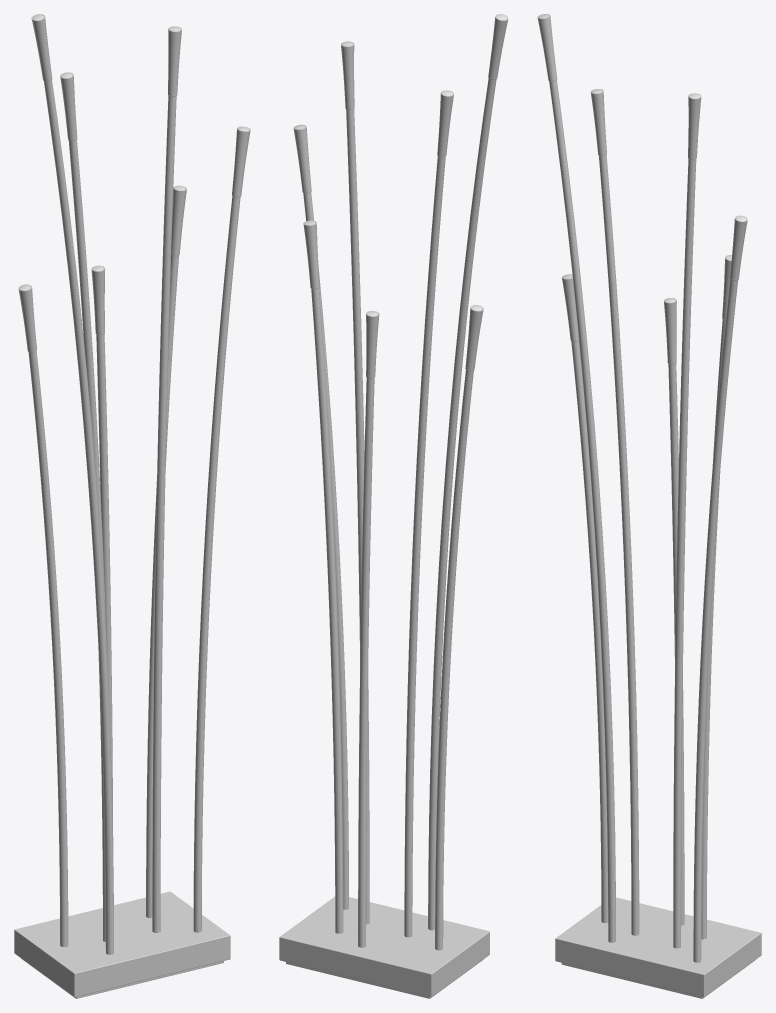
The model's file is lamp002.glb.
3 renders of one model, left to right at view 1: azimuth 30°, elevation 25°; view 2: azimuth 150°, elevation 25°; view 3: azimuth 330°, elevation 25°, orthographic. The views are drawn at different scales.
Parts seen in each view (by area): view 1: Base.001, Base.002; view 2: Base.001, Base.002; view 3: Base.001, Base.002.
Part boxes in pixels (<box>): Base.001: <box>18,14,250,954</box>; Base.002: <box>14,891,230,998</box>; Base.001: <box>293,14,508,950</box>; Base.002: <box>279,896,489,998</box>; Base.001: <box>537,14,747,962</box>; Base.002: <box>555,897,761,998</box>.
Bounding box in the file's own units: 41.83 × 180 × 20.
Materials: 2 (1 with a texture image).
